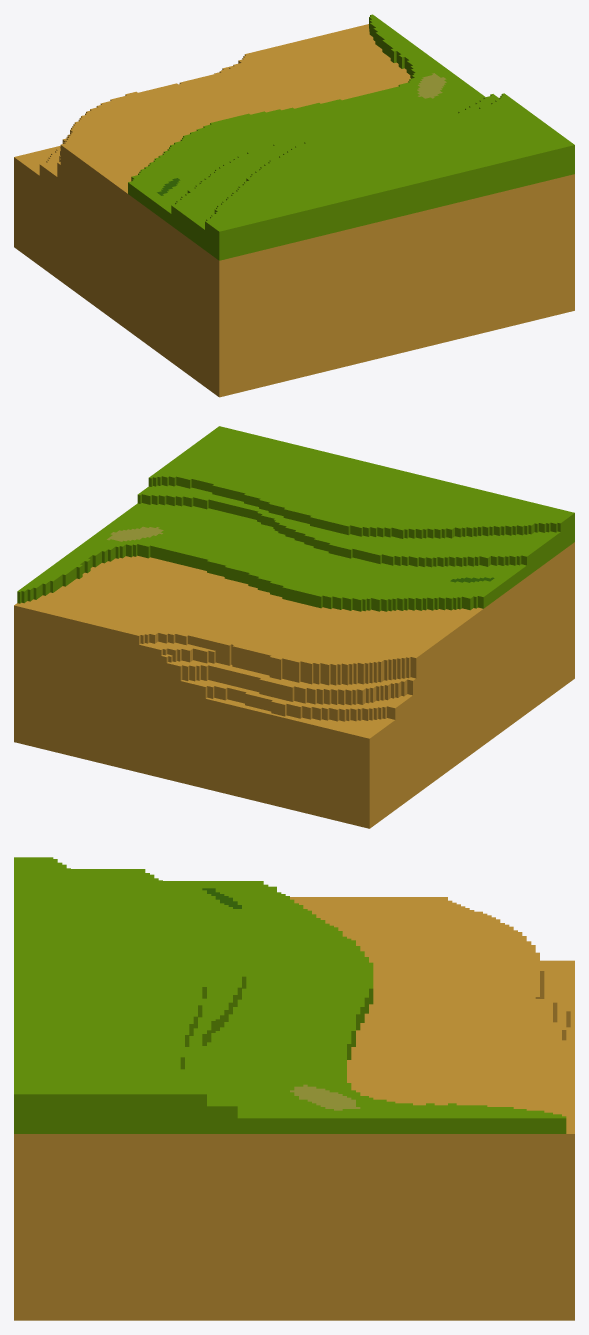
The picture shows the model from 3 angles, top to bottom: view 1: azimuth 30°, elevation 25°; view 2: azimuth 150°, elevation 25°; view 3: azimuth 270°, elevation 25°; orthographic projection. The views are drawn at different scales.
Visible parts, largest first — view 1: 14E; view 2: 14E; view 3: 14E.
Boxes of the visible parts, x1,y1,x2,y2 form: 14E: (14, 14, 574, 397); 14E: (14, 426, 574, 828); 14E: (14, 857, 574, 1320).
Size of the model in its own units: 12.8 by 5.7 by 12.8.
Materials: 1 (1 with a texture image).
